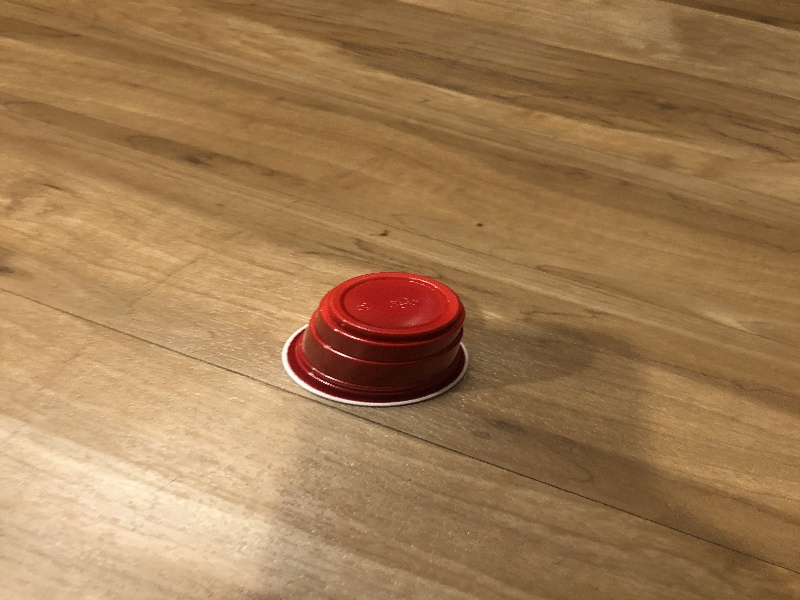plastic: (278, 270, 477, 410)
